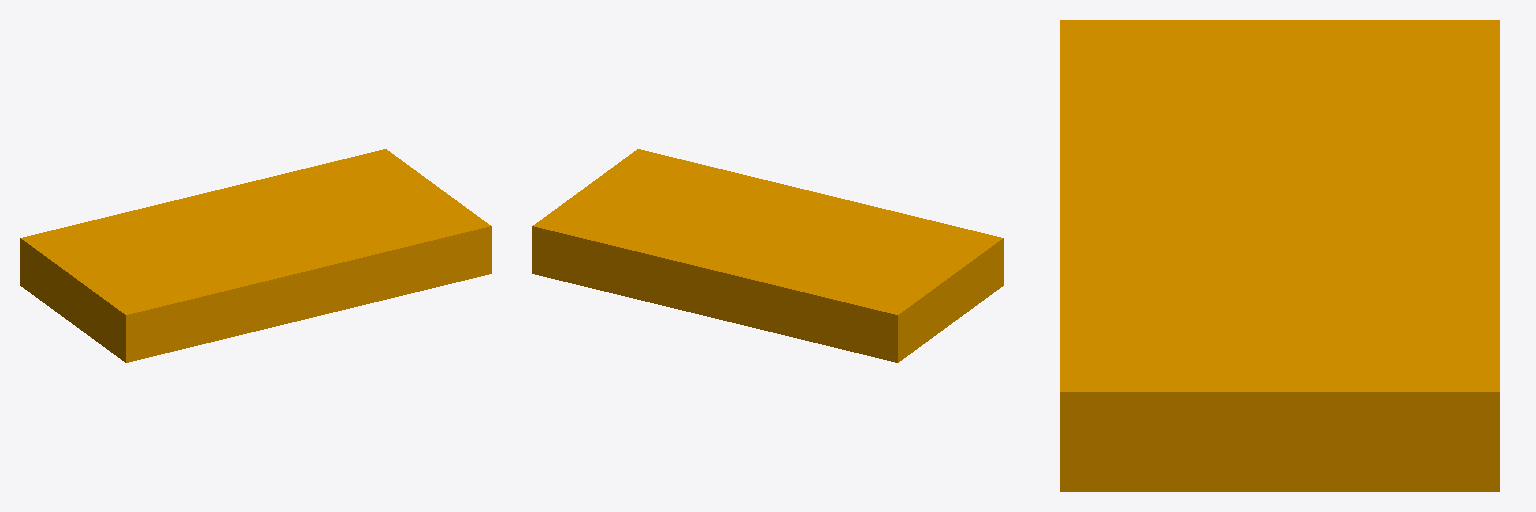
The robot description file, URDF, robot "lowTable":
<?xml version="1.0"?>
<robot name="lowTable">
	<link name="lowTable">
		<inertial>
			<origin rpy="0 0 0" xyz="0 0 0" />
			<mass value="6.0" />
			<!--inertia ixx="0.000360" ixy="0" ixz="0" iyy="0.0000615" iyz="0" izz="0.00036" /-->
		</inertial>
    		<visual>
	      		<origin rpy="0 0 0" xyz="0 0 0"/>
      			<geometry>
        			<mesh filename="lowTable.obj"/>
      			</geometry>
         	</visual>
    		<collision>
      			<origin rpy="0 0 0" xyz="0 0 0"/>
      			<geometry>
        			<mesh filename="lowTable.obj"/>
      			</geometry>
    		</collision>
	</link>
</robot>

--- What the picture shows (computed from the rendered views, not written in the file) ---
The picture shows the robot from 3 angles, left to right: view 1: azimuth 30°, elevation 25°; view 2: azimuth 150°, elevation 25°; view 3: azimuth 270°, elevation 25°; orthographic projection.
Robot: lowTable — 1 links, 0 joints (none); root link lowTable; default pose: every joint at zero.
Visible links, largest first — view 1: lowTable; view 2: lowTable; view 3: lowTable.
Boxes of the visible links, box(x1,y1,x2,y2) form: lowTable: box(20, 149, 491, 362); lowTable: box(532, 149, 1003, 362); lowTable: box(1060, 20, 1499, 491).
Size in the robot's own frame: 1.2 by 0.6 by 0.15 metres.
Meshes: 1 distinct files referenced, 1 mesh visuals loaded (1 OBJ).